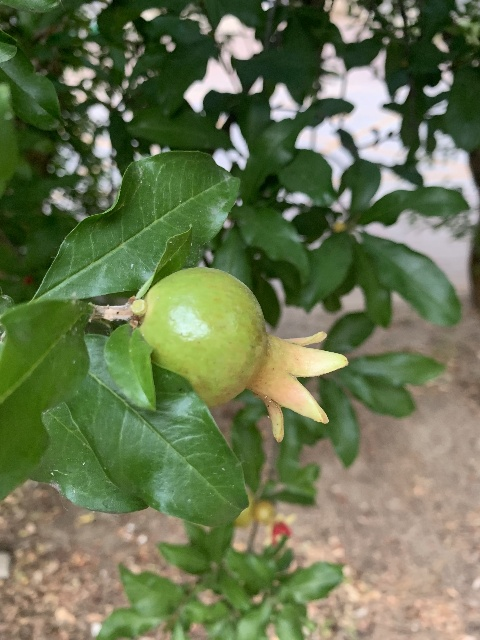mid-growth: (141, 267, 348, 443)
